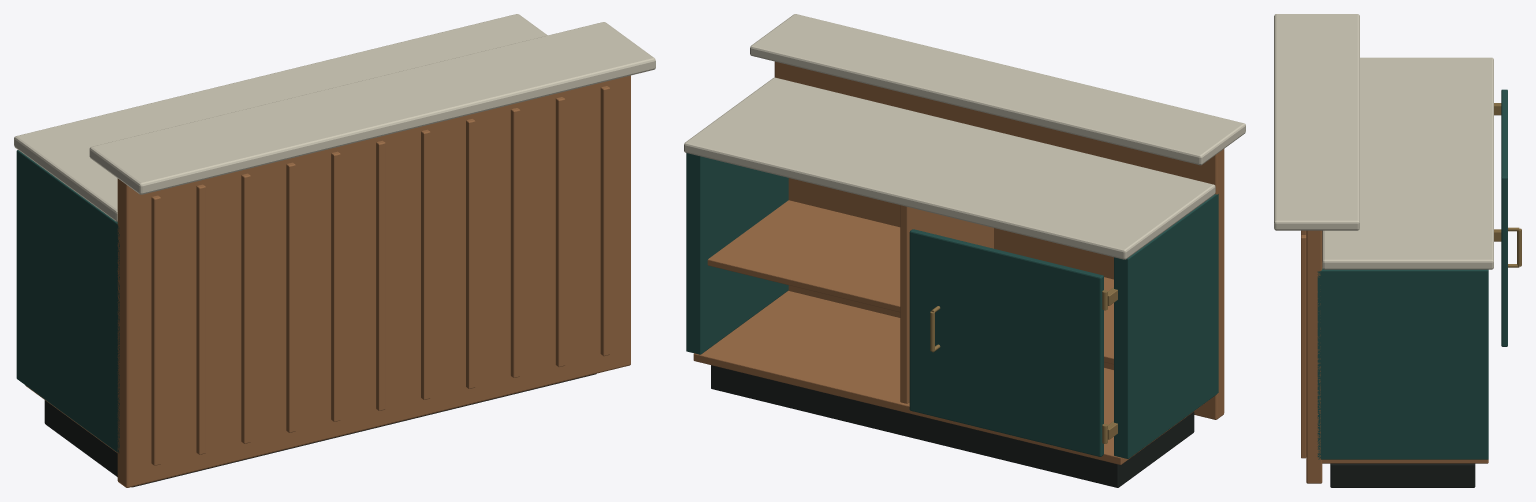
File: edited.glb
3 renders of one model, left to right at view 1: azimuth 30°, elevation 25°; view 2: azimuth 150°, elevation 25°; view 3: azimuth 270°, elevation 25°, orthographic. The views are drawn at different scales.
Parts seen in each view (by area): view 1: FIXED_CustomerPanel, FIXED_HandoffLedge, FIXED_Side_Left, FIXED_StaffWorktop, FIXED_FrontRib_09, FIXED_FrontRib_08, FIXED_FrontRib_00, FIXED_FrontRib_01, FIXED_FrontRib_02, FIXED_FrontRib_03, FIXED_FrontRib_04, FIXED_FrontRib_10 (+4 smaller); view 2: FIXED_StaffWorktop, DOOR_Leaf, FIXED_HandoffLedge, FIXED_Side_Left, FIXED_StorageBottom, FIXED_CustomerPanel, FIXED_ShelfRight, FIXED_Side_Right, FIXED_Plinth, FIXED_StorageDivider, FIXED_ShelfLeft; view 3: FIXED_Side_Right, FIXED_StaffWorktop, FIXED_HandoffLedge, FIXED_Plinth, FIXED_CustomerPanel, DOOR_Leaf, FIXED_FrontRib_10, FIXED_StorageBottom.
Boxes of the visible parts, left/top/right/bottom form: FIXED_CustomerPanel: left=117, top=75, right=630, bottom=487; FIXED_HandoffLedge: left=89, top=22, right=655, bottom=194; FIXED_Side_Left: left=16, top=150, right=119, bottom=452; FIXED_StaffWorktop: left=14, top=14, right=547, bottom=221; FIXED_FrontRib_09: left=555, top=97, right=565, bottom=366; FIXED_FrontRib_08: left=510, top=108, right=520, bottom=377; FIXED_FrontRib_00: left=151, top=195, right=160, bottom=465; FIXED_FrontRib_01: left=196, top=184, right=205, bottom=454; FIXED_FrontRib_02: left=241, top=173, right=250, bottom=443; FIXED_FrontRib_03: left=286, top=162, right=295, bottom=432; FIXED_FrontRib_04: left=331, top=151, right=340, bottom=421; FIXED_FrontRib_10: left=600, top=86, right=609, bottom=356; FIXED_StaffWorktop: left=684, top=77, right=1215, bottom=259; DOOR_Leaf: left=909, top=229, right=1103, bottom=456; FIXED_HandoffLedge: left=750, top=14, right=1245, bottom=165; FIXED_Side_Left: left=1114, top=194, right=1218, bottom=458; FIXED_StorageBottom: left=693, top=290, right=1208, bottom=464; FIXED_CustomerPanel: left=774, top=61, right=1224, bottom=419; FIXED_ShelfRight: left=707, top=200, right=900, bottom=312; FIXED_Side_Right: left=686, top=153, right=788, bottom=354; FIXED_Plinth: left=711, top=365, right=1194, bottom=487; FIXED_StorageDivider: left=900, top=205, right=993, bottom=403; FIXED_ShelfLeft: left=1104, top=277, right=1113, bottom=364; FIXED_Side_Right: left=1317, top=268, right=1488, bottom=459; FIXED_StaffWorktop: left=1322, top=57, right=1493, bottom=269; FIXED_HandoffLedge: left=1274, top=14, right=1359, bottom=230; FIXED_Plinth: left=1330, top=463, right=1475, bottom=487; FIXED_CustomerPanel: left=1306, top=230, right=1322, bottom=483; DOOR_Leaf: left=1501, top=89, right=1507, bottom=346; FIXED_FrontRib_10: left=1301, top=235, right=1306, bottom=458; FIXED_StorageBottom: left=1322, top=459, right=1488, bottom=463.
Size of the model in its own units: 1.84 by 1.14 by 0.924.
